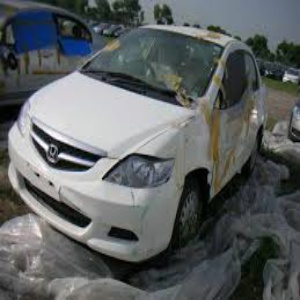bumper_scratch: (49, 183, 162, 261)
